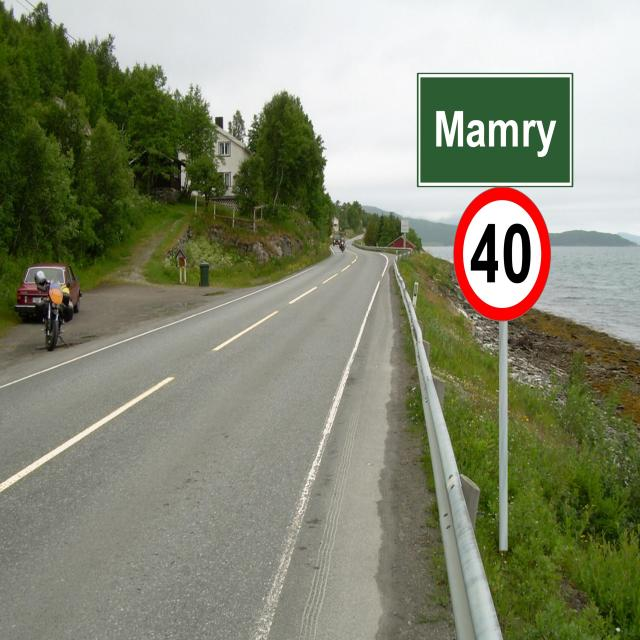Speed Limit -40-: (470, 222, 532, 284)
